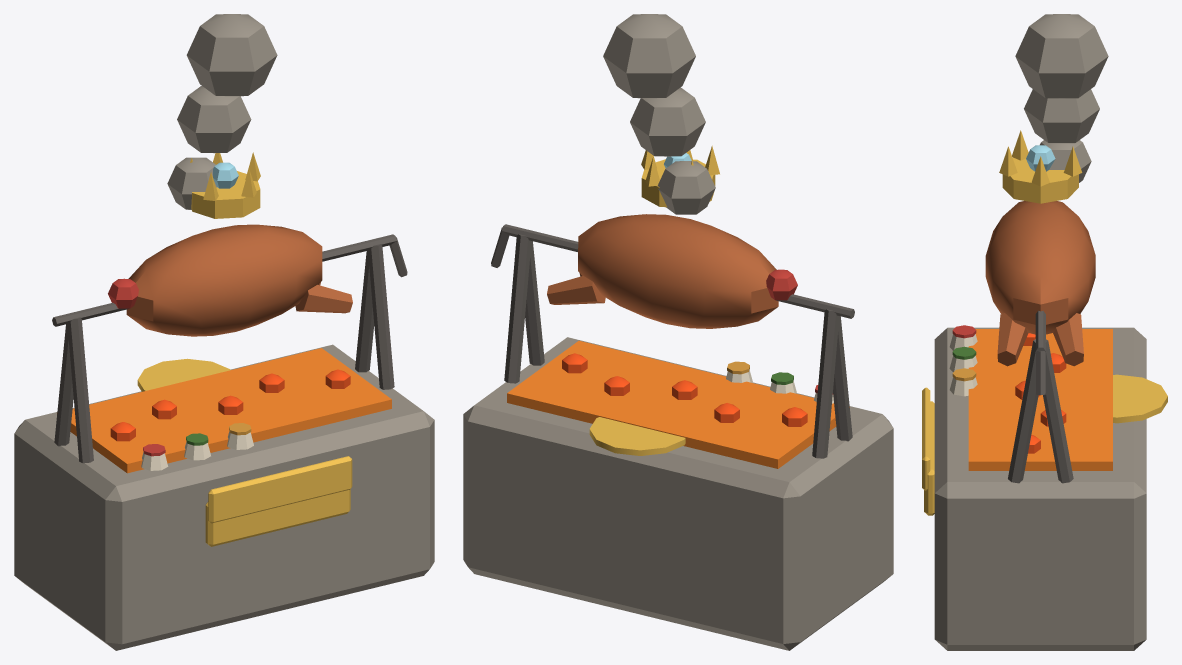
The model's file is PR_Station_Solen_T3.fbx.
The picture shows the model from 3 angles, left to right: view 1: azimuth 30°, elevation 25°; view 2: azimuth 150°, elevation 25°; view 3: azimuth 270°, elevation 25°; orthographic projection. The views are drawn at different scales.
Parts seen in each view (by area): view 1: PR_Station_Solen_T3; view 2: PR_Station_Solen_T3; view 3: PR_Station_Solen_T3.
Part boxes in pixels (box(x1,y1,x2,y2)): PR_Station_Solen_T3: box(14, 14, 434, 650); PR_Station_Solen_T3: box(463, 14, 893, 650); PR_Station_Solen_T3: box(922, 14, 1167, 650).
Size of the model in its own units: 0.9865 by 1.48 by 0.58.
